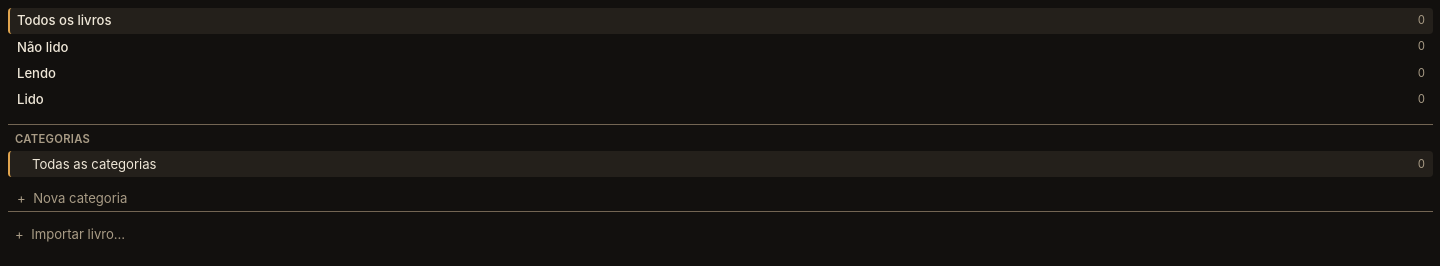
Test: PainelDeBiblioteca › botão de importar trava (rótulo muda e fica desabilitado) enquanto o import está em voo, sem travar o resto do painel
Expected: the text "Todos os livros" is shown, [17,12,112,28]
Click the button "+ Importar livro…" at (78, 234), box [8,220,1432,250]
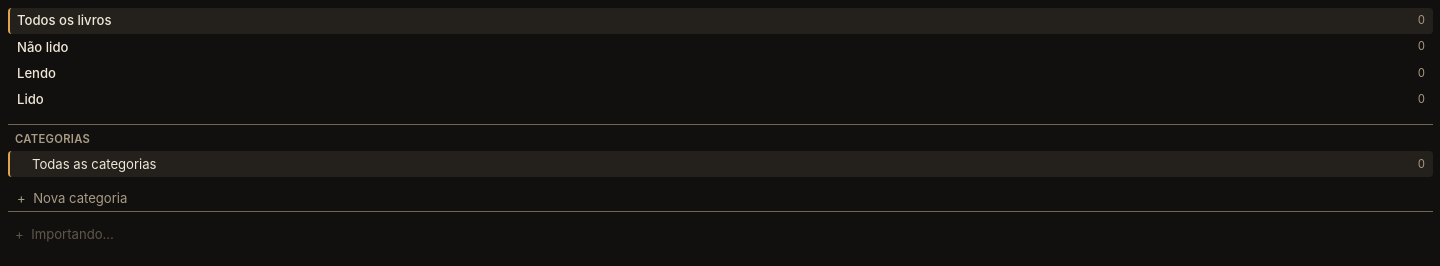
Result: the button "+ Importando…" is disabled at [8,220,1432,250]
# O resto do painel continua respondendo — trocar de filtro não trava.
Click the button "Lendo 0" at (37, 73), box [8,60,1432,86]
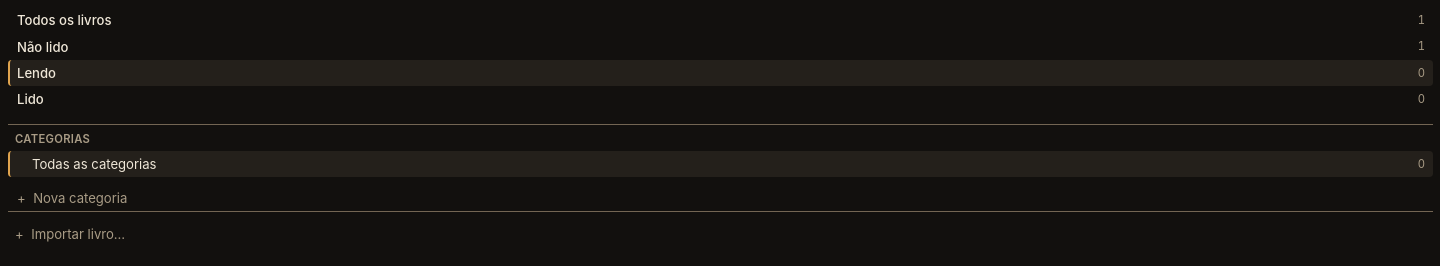
Result: the button "+ Importar livro…" is enabled at [8,220,1432,250]
